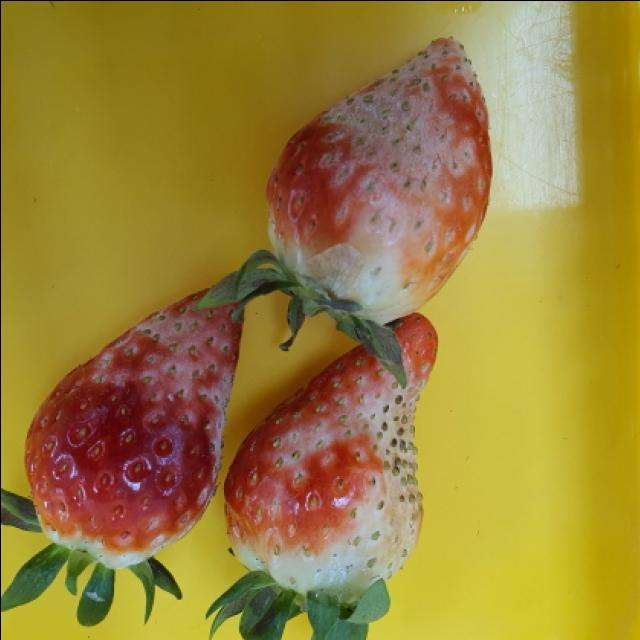Powdery Mildew Fruit: (264, 36, 492, 325), (221, 310, 438, 604), (22, 286, 242, 567)
